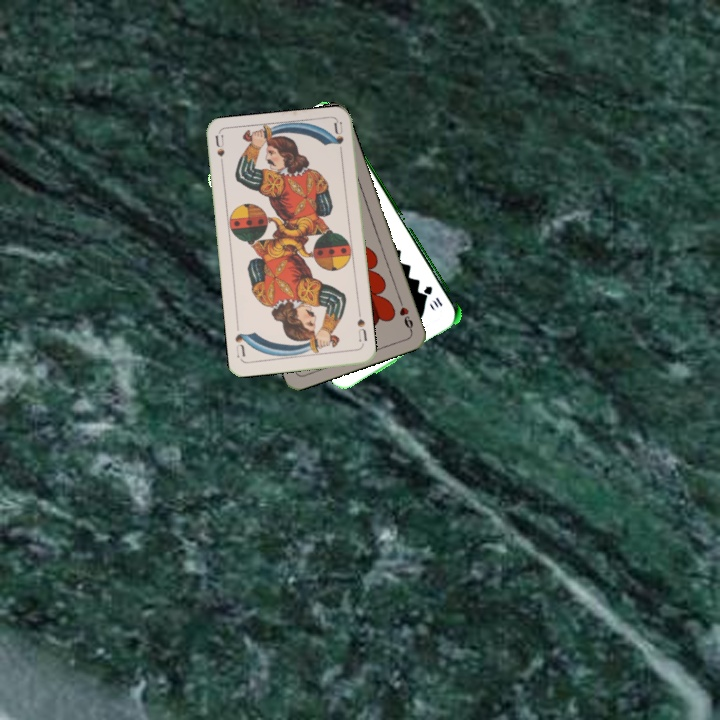G10: (421, 282, 445, 310)
H9: (394, 295, 416, 334)
SU: (353, 308, 370, 349), (211, 132, 227, 173)
